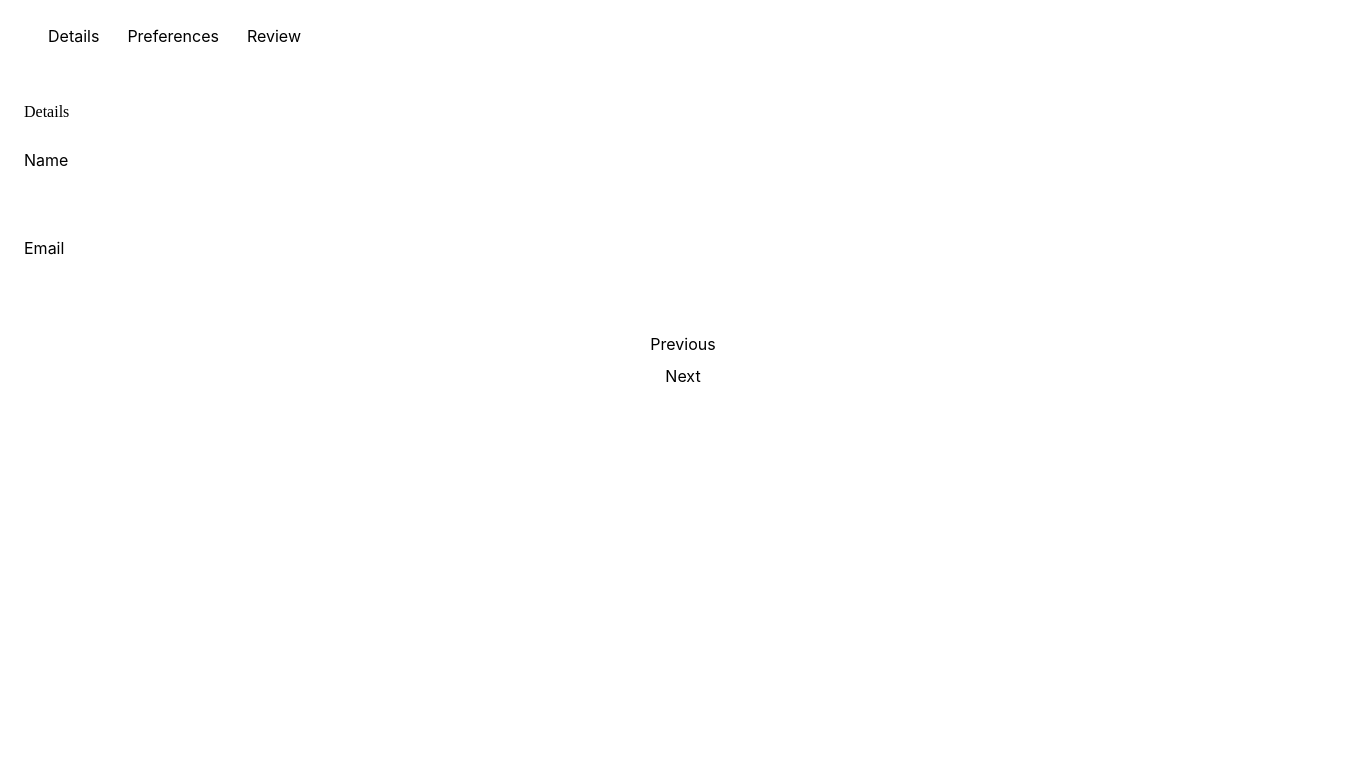
GuidedForm › blocks Next when the step is invalid and shows a focused FormSummary
Click the button "Next" at (683, 376), box 24,364 -> 1342,388
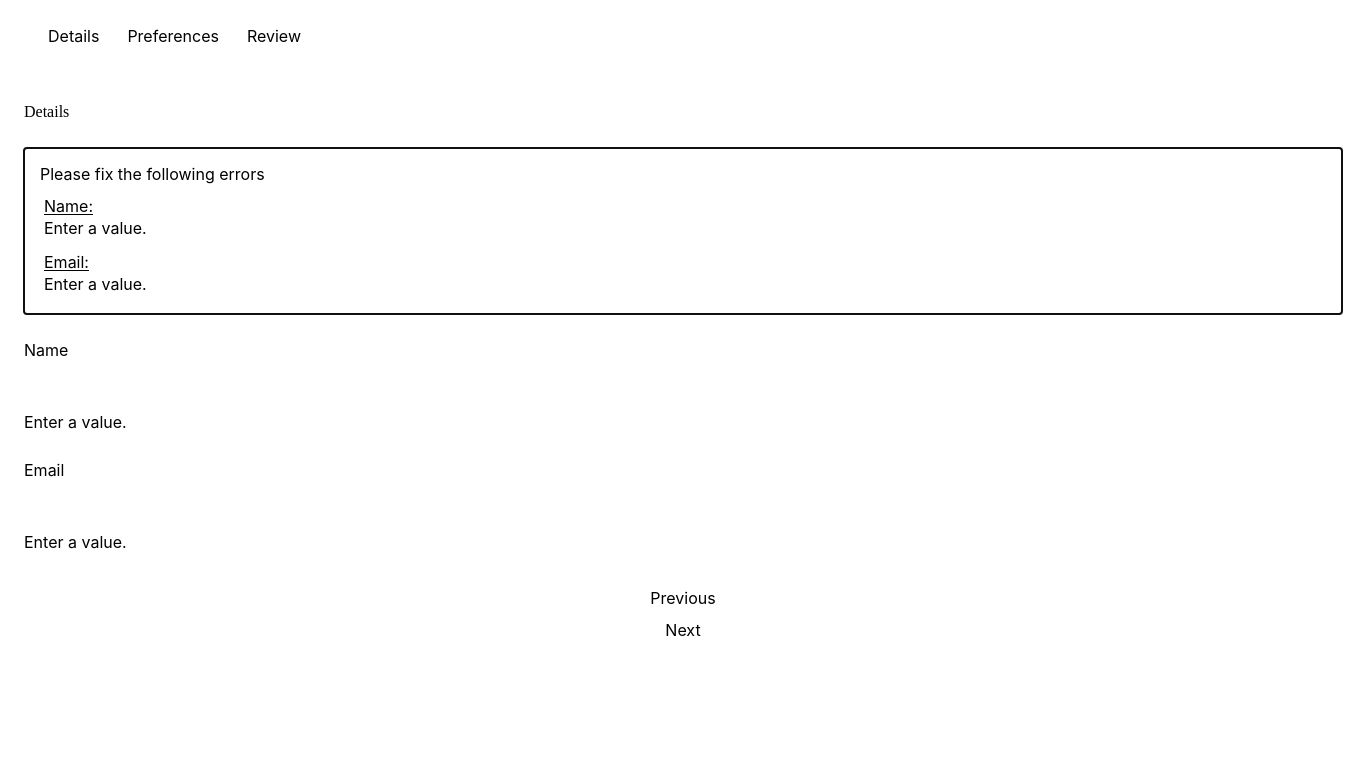
Expected: the message "Please fix the following errors" shows "Enter a value.", 40,192 -> 1330,242
Expected: the link "Name: Enter a value." is shown, 44,196 -> 147,238
Expected: the link "Email: Enter a value." is shown, 44,252 -> 147,294
